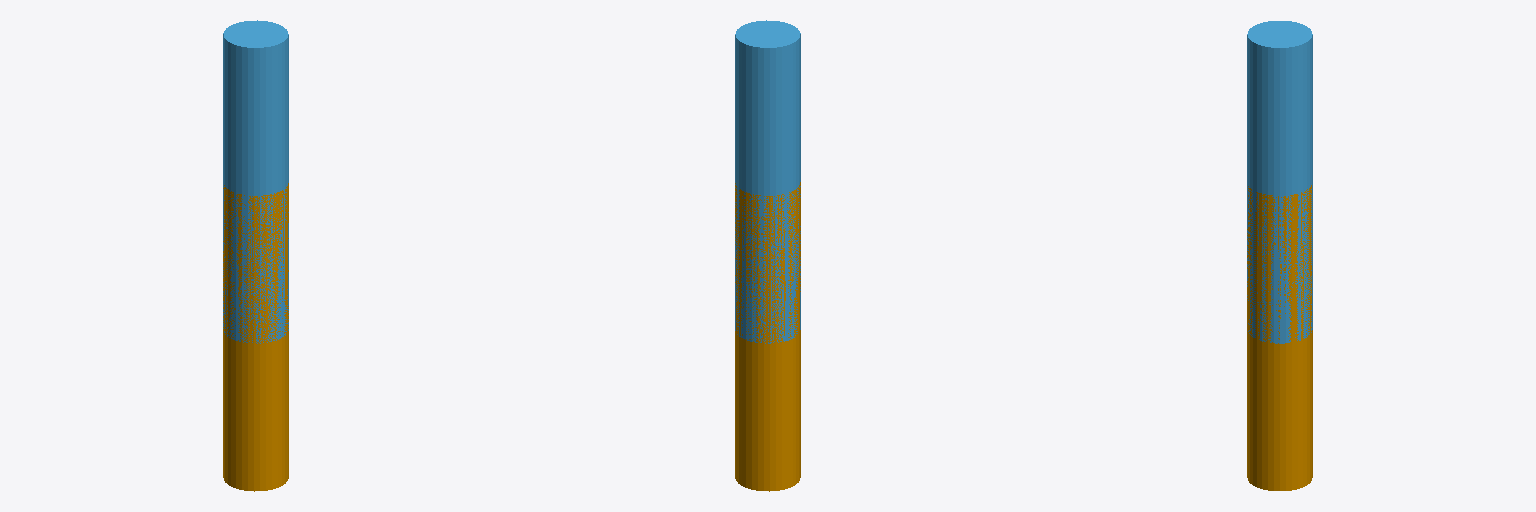
robot.urdf — robot_arm:
<?xml version="1.0"?>
<robot name="robot_arm">

  <link name="link1">
    <visual>
      <geometry>
        <cylinder length="1" radius="0.1"/>
      </geometry>
    </visual>
  </link>

  <link name="link2">
    <visual>
      <geometry>
        <cylinder length="1" radius="0.1"/>
      </geometry>
    </visual>
  </link>

  <joint name="joint1" type="revolute">
    <parent link="link1"/>
    <child link="link2"/>
    <origin rpy="0 0 0" xyz="0 0 0.5"/>
    <axis xyz="0 1 0"/>
  </joint>

</robot>

--- Facts derived from the render (not from the file) ---
The picture shows the robot from 3 angles, left to right: view 1: azimuth 30°, elevation 25°; view 2: azimuth 150°, elevation 25°; view 3: azimuth 270°, elevation 25°; orthographic projection.
Robot: robot_arm — 2 links, 1 joints (1 revolute); root link link1; default pose: all joints at 0.
Links seen in each view (by area): view 1: link2, link1; view 2: link2, link1; view 3: link2, link1.
Boxes of the visible links, box(x1,y1,x2,y2) form: link2: box(223, 20, 288, 343); link1: box(223, 183, 288, 491); link2: box(735, 20, 800, 343); link1: box(735, 182, 800, 491); link2: box(1247, 21, 1312, 343); link1: box(1247, 185, 1312, 490).
Bounding box of the posed robot: 0.2 × 0.2 × 1.5 m (x, y, z).
Geometry: primitives only (box / cylinder / sphere), no mesh files.